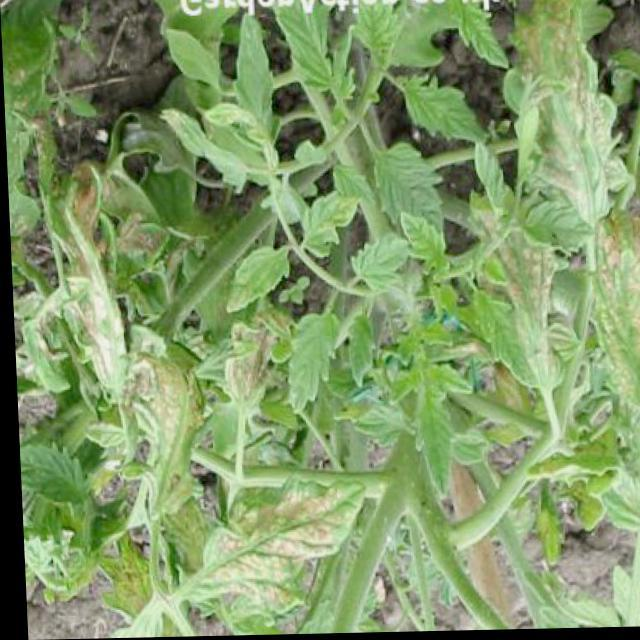Tomato yellow virus leaf: (371, 140, 445, 258), (164, 104, 245, 204), (461, 278, 532, 390), (396, 69, 486, 145), (15, 432, 86, 522), (282, 313, 342, 416), (232, 21, 277, 148), (412, 370, 452, 511), (222, 242, 288, 316), (447, 0, 506, 76), (297, 183, 357, 254), (509, 206, 590, 258), (352, 230, 408, 292)
